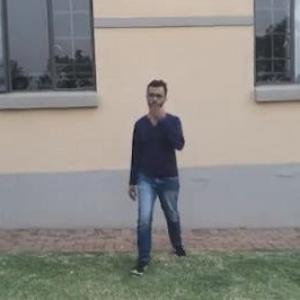follow: (129, 78, 187, 265)
